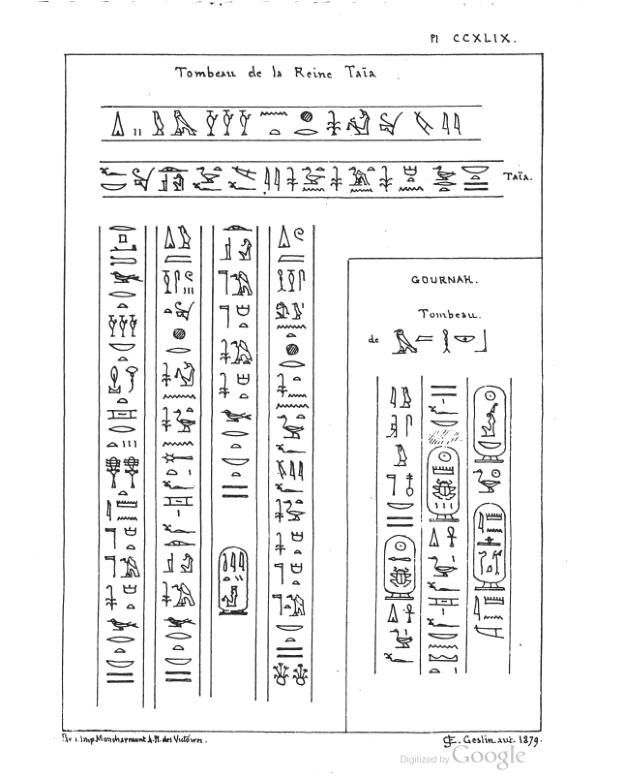circle: (471, 501, 509, 593), (470, 383, 508, 464), (215, 543, 250, 618), (382, 533, 416, 604)
